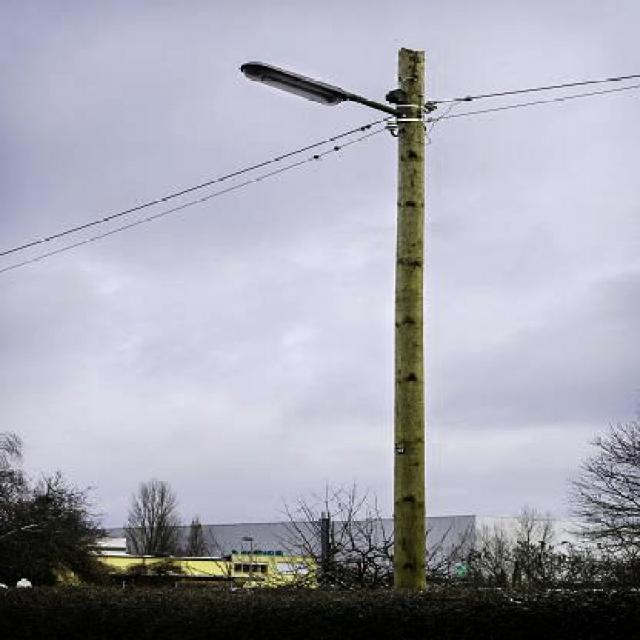pole: (392, 48, 431, 595)
wire: (4, 81, 640, 279), (4, 69, 640, 257)
